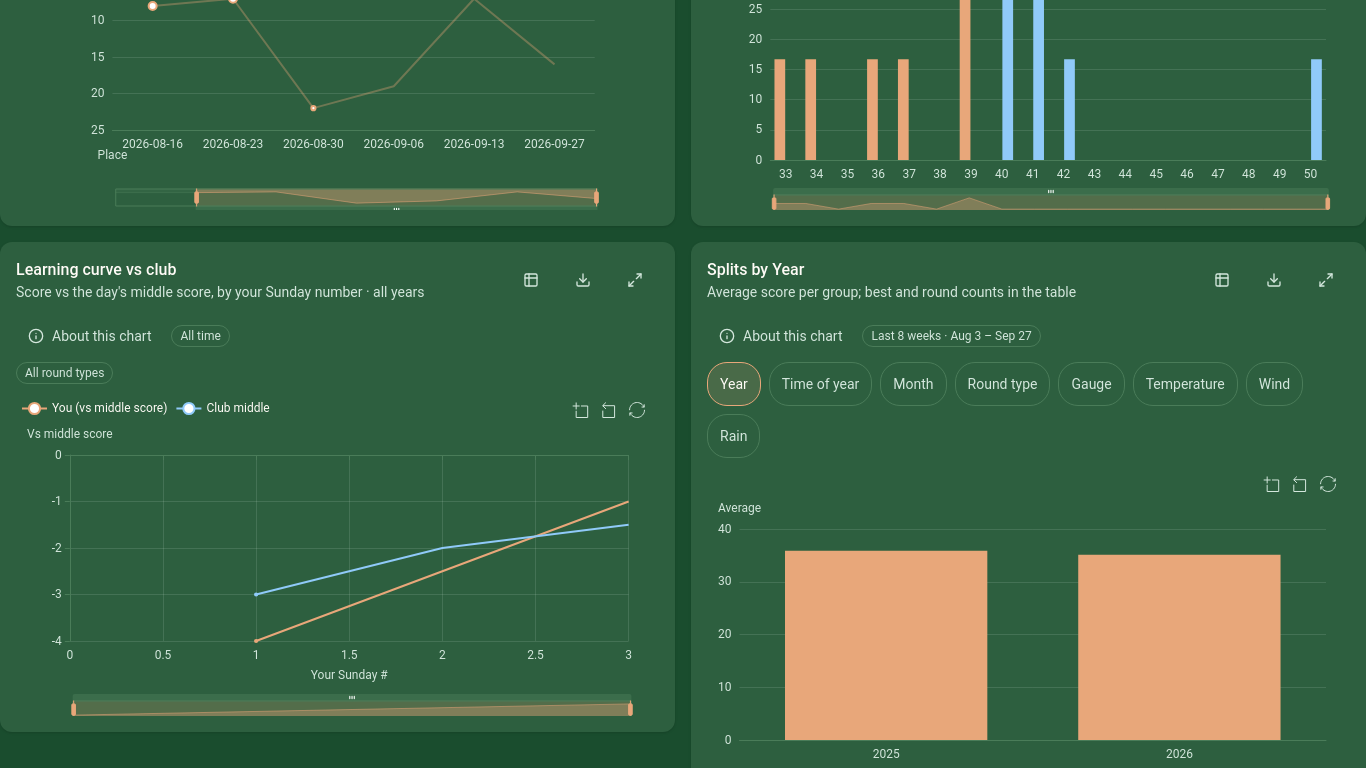
Test: ProfileCharts › labels the winter-to-fall split "Time of year"
(page scrolled)
Check: the heading "Splits by Year" is shown, box [707,260,804,279]
Click the button "Time of year" at (821, 384), box [769,362,872,406]
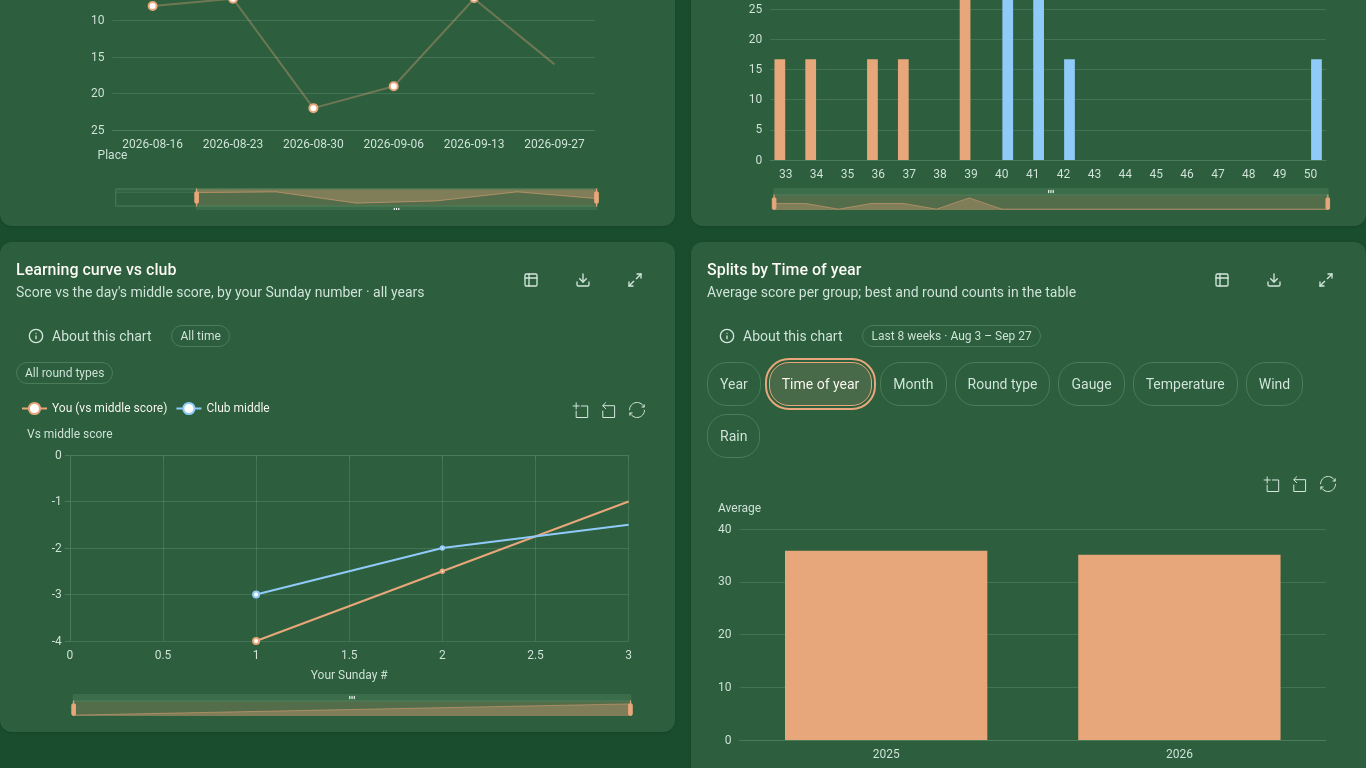
Check: the heading "Splits by Time of year" is shown, box [707,260,861,279]
